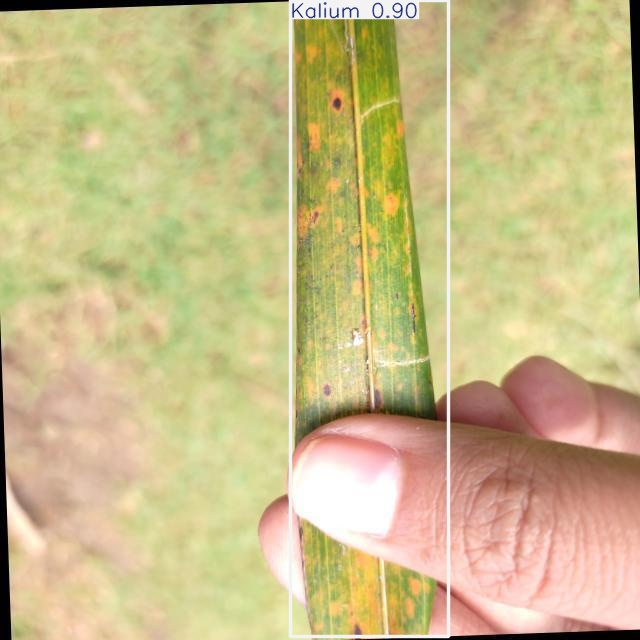Kalium: (290, 0, 448, 637)
